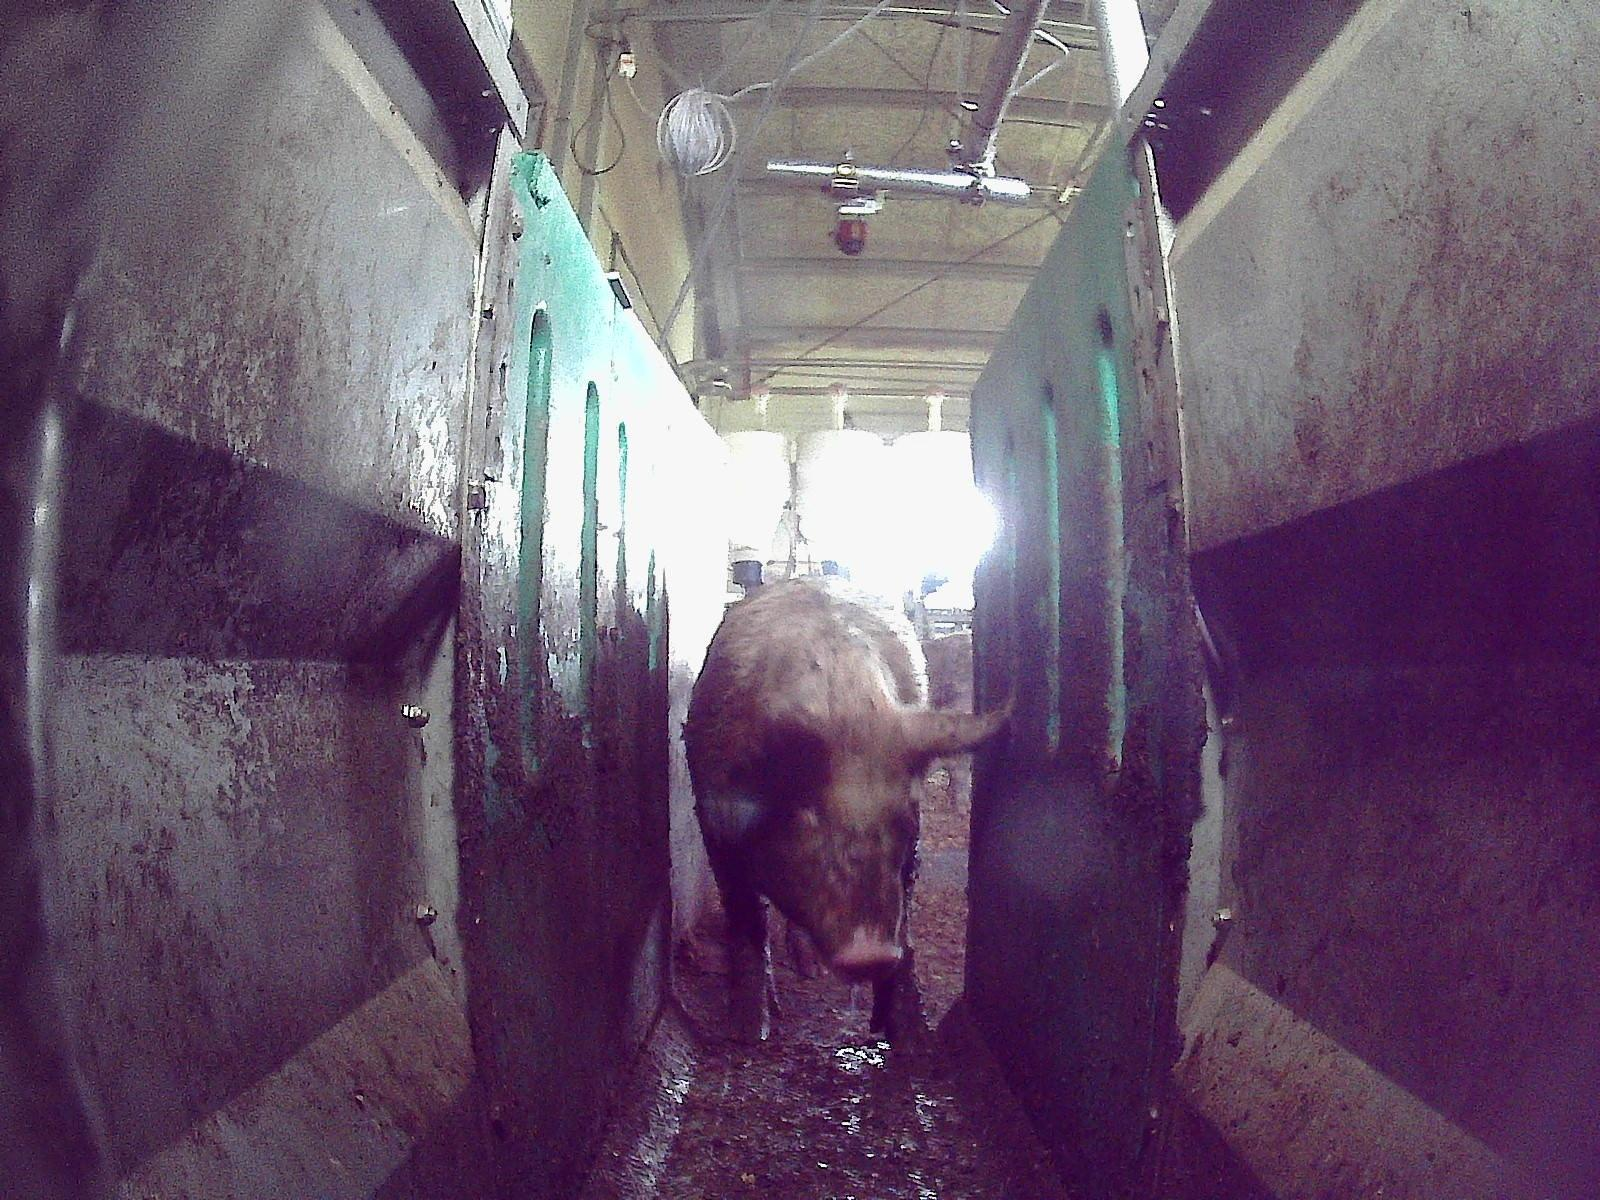Face: (754, 746, 922, 981)
